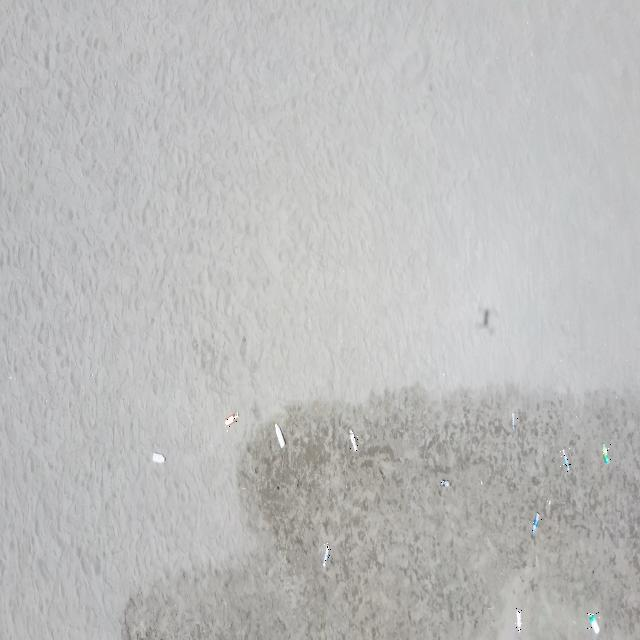Garbage: (588, 612, 599, 632), (224, 412, 238, 426), (348, 428, 356, 451), (532, 512, 539, 536), (276, 423, 283, 447), (562, 448, 569, 471), (151, 452, 164, 463), (323, 544, 329, 567), (515, 607, 520, 631), (602, 444, 607, 463), (512, 412, 516, 431), (440, 479, 447, 486), (547, 499, 550, 512)
